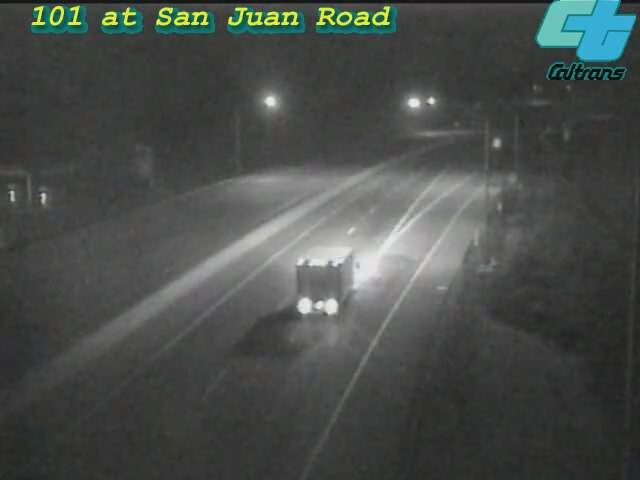vehicle: (283, 247, 363, 327)
